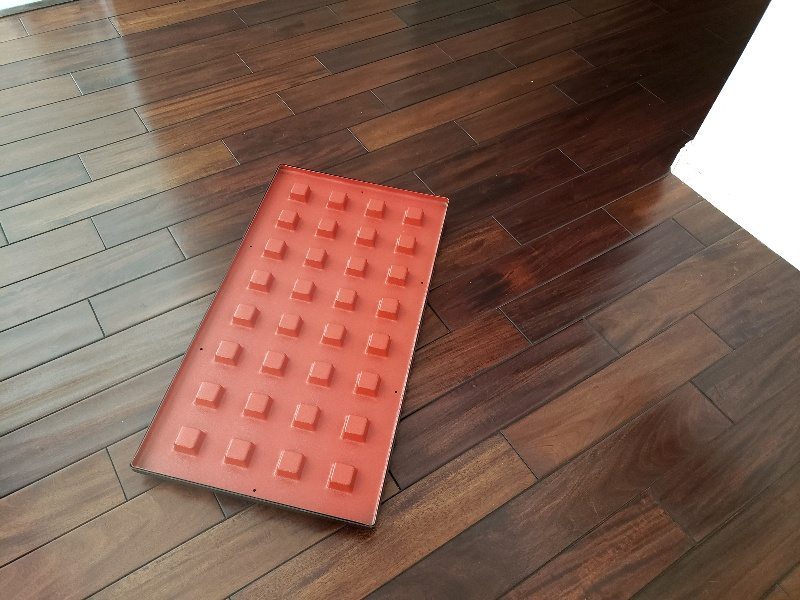ftc_base: (115, 155, 458, 539)
